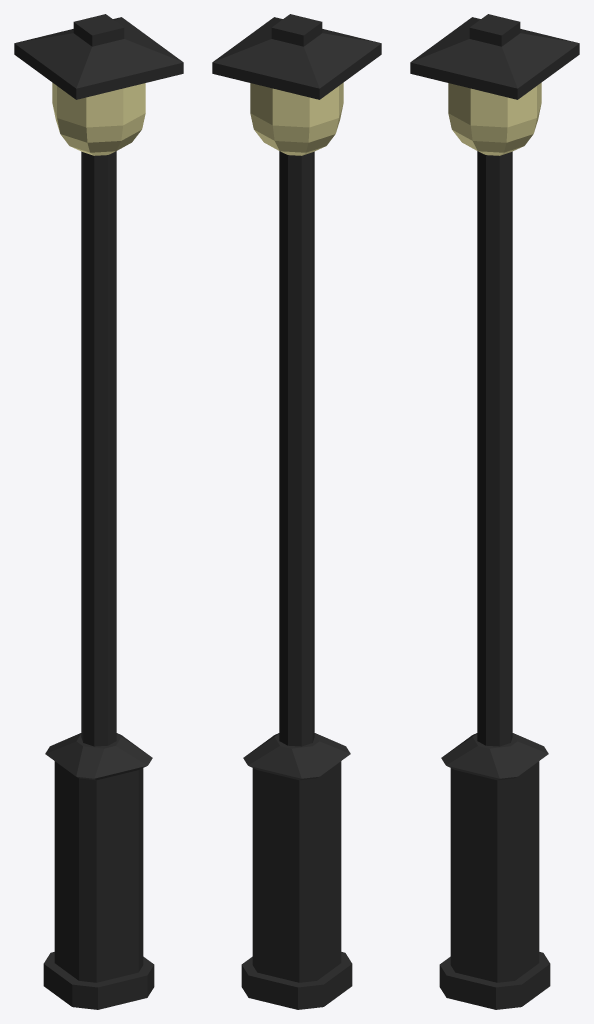
The model's file is PostLight.fbx.
3 views of the same model, side by side, from view 1: azimuth 30°, elevation 25°; view 2: azimuth 150°, elevation 25°; view 3: azimuth 330°, elevation 25° (orthographic).
Parts seen in each view (by area): view 1: PostLight; view 2: PostLight; view 3: PostLight.
Boxes of the visible parts, x1,y1,x2,y2 form: PostLight: (14, 14, 183, 1009); PostLight: (212, 14, 381, 1009); PostLight: (410, 14, 579, 1009).
Bounding box in the file's own units: 20 × 171 × 20.
